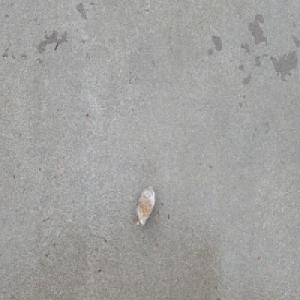Rock: (135, 182, 155, 227)
